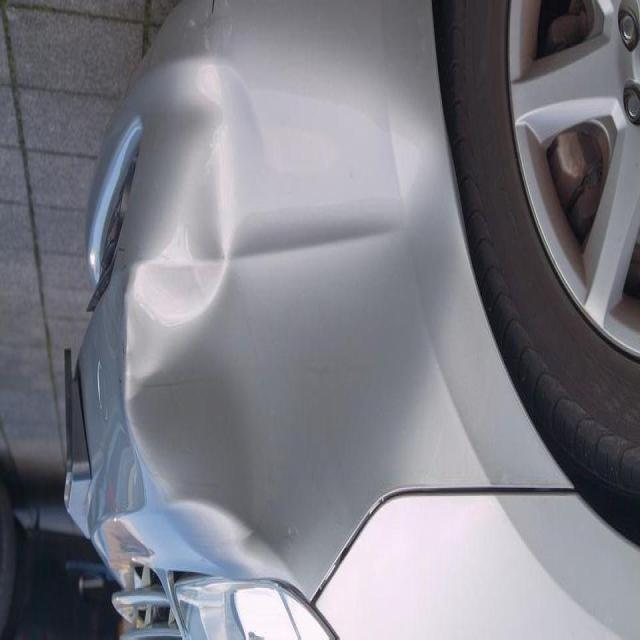dent: (118, 25, 444, 640)
